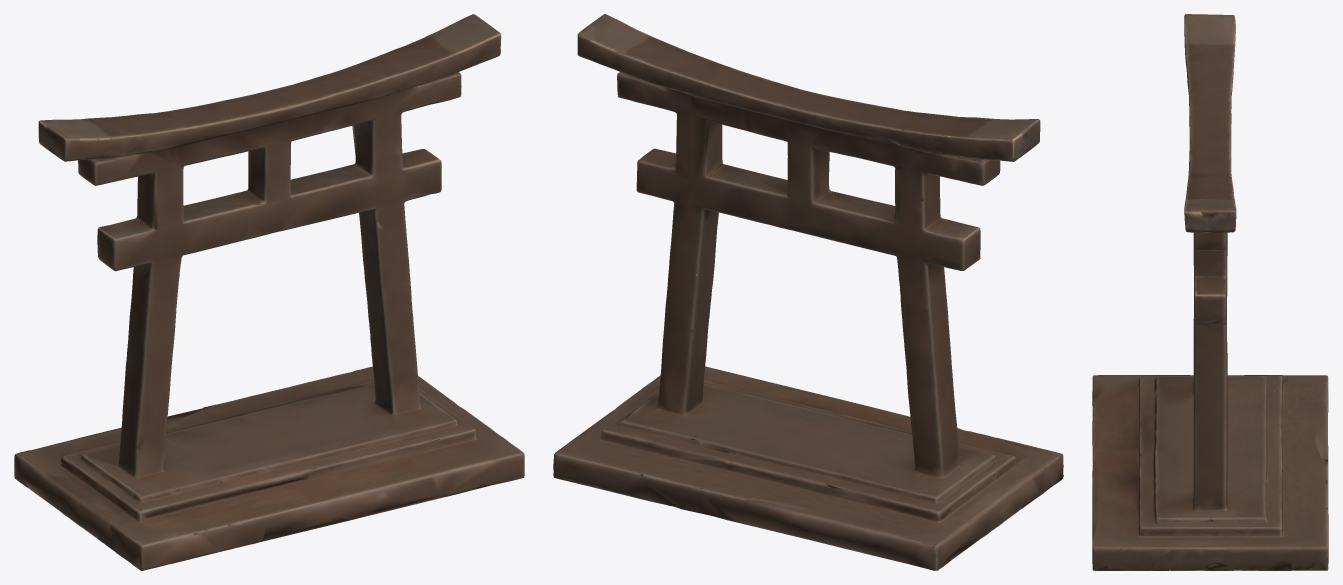
File: Torii.fbx
3 renders of one model, left to right at view 1: azimuth 30°, elevation 25°; view 2: azimuth 150°, elevation 25°; view 3: azimuth 270°, elevation 25°, orthographic. The views are drawn at different scales.
Parts seen in each view (by area): view 1: Mesh_0; view 2: Mesh_0; view 3: Mesh_0.
Boxes of the visible parts, <box> form: Mesh_0: <box>14,14,524,570</box>; Mesh_0: <box>553,14,1063,570</box>; Mesh_0: <box>1092,14,1328,570</box>.
Bounding box in the file's own units: 200 × 176 × 101.
Materials: 1 (1 with a texture image).
